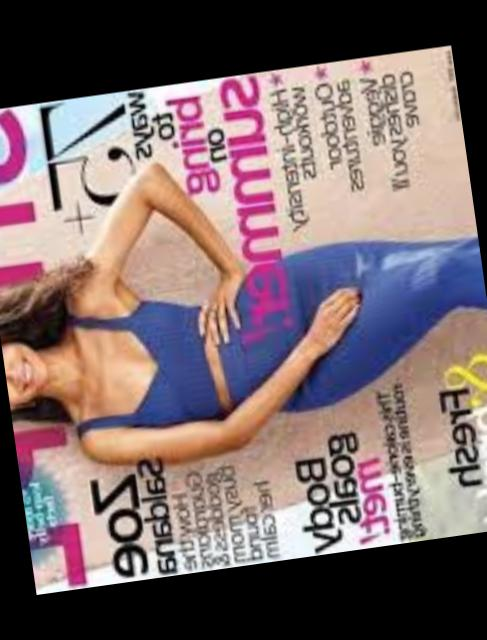cardboard paper: (0, 45, 487, 595)
